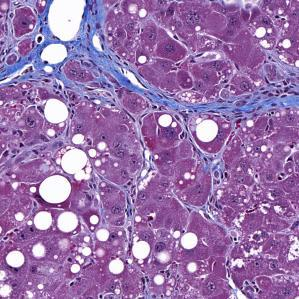fibrosis: (97, 66, 218, 125), (19, 28, 113, 93), (226, 75, 299, 121)
